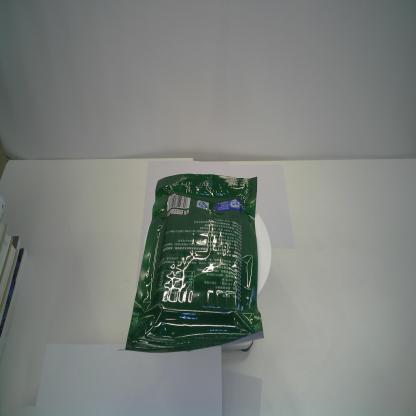Dried Food: (116, 172, 266, 355)
